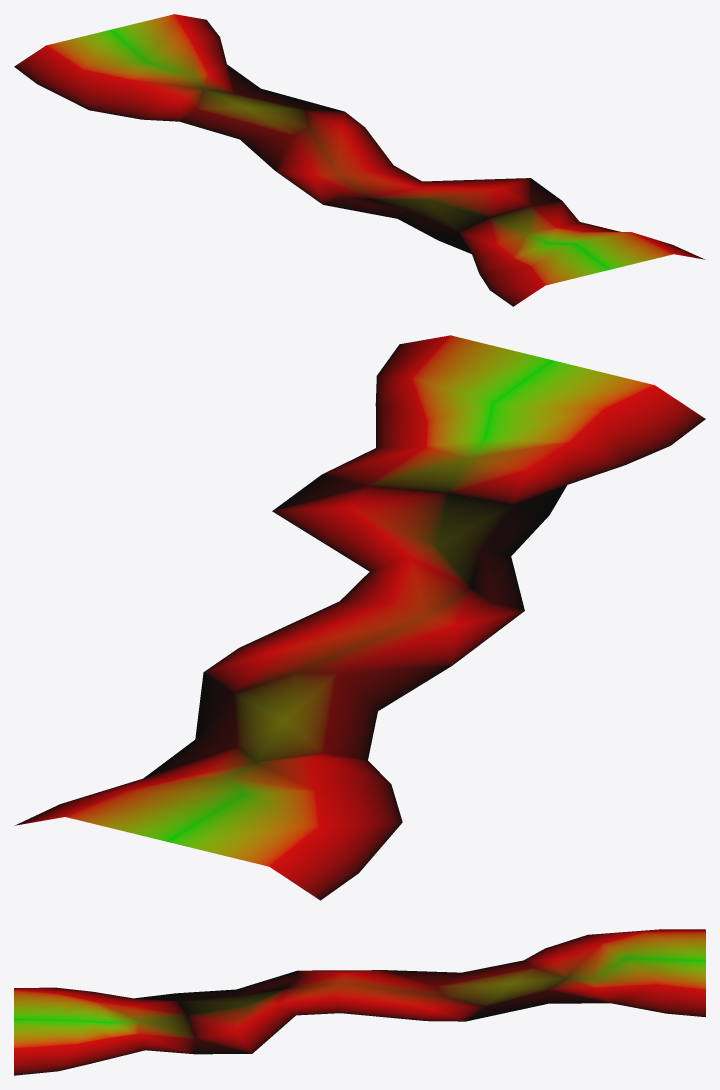
File: Section_WayLine08_Swamp_Terrain.fbx
3 views of the same model, one above another, from view 1: azimuth 30°, elevation 25°; view 2: azimuth 150°, elevation 25°; view 3: azimuth 270°, elevation 25° (orthographic). The views are drawn at different scales.
Visible parts, largest first — view 1: Section_WayLine08_Swamp_Terrain; view 2: Section_WayLine08_Swamp_Terrain; view 3: Section_WayLine08_Swamp_Terrain.
Boxes of the visible parts, bbox=[...] form: Section_WayLine08_Swamp_Terrain: bbox=[14, 14, 704, 306]; Section_WayLine08_Swamp_Terrain: bbox=[14, 335, 705, 900]; Section_WayLine08_Swamp_Terrain: bbox=[14, 929, 705, 1075].
Bounding box in the file's own units: 2504 × 100 × 5000.
